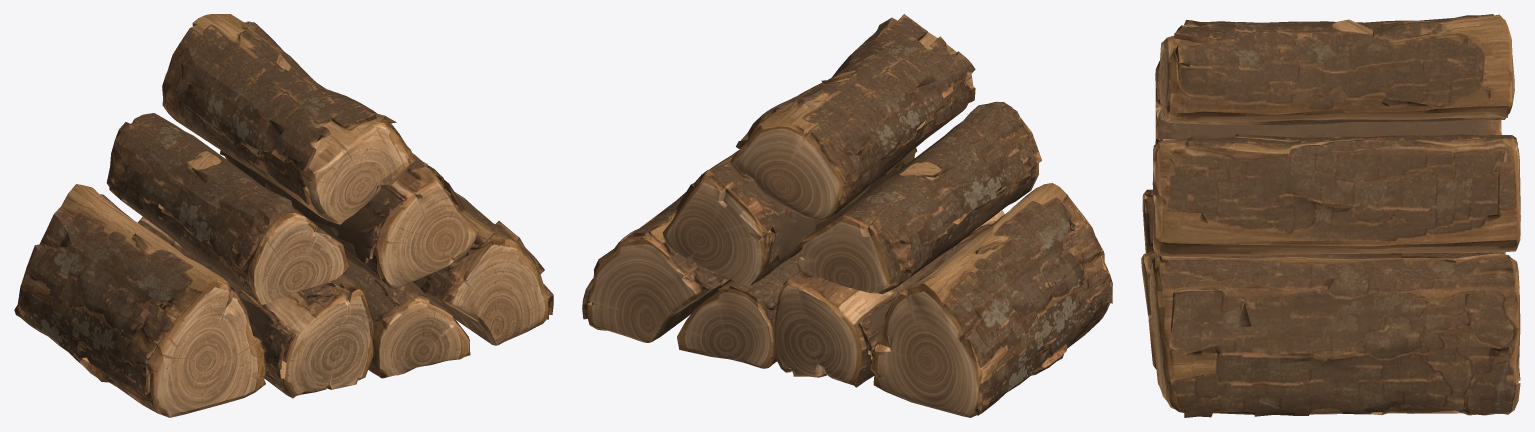
Rendered from log-pile.glb.
3 renders of one model, left to right at view 1: azimuth 30°, elevation 25°; view 2: azimuth 150°, elevation 25°; view 3: azimuth 270°, elevation 25°, orthographic. The views are drawn at different scales.
Visible parts, largest first — view 1: Mesh0; view 2: Mesh0; view 3: Mesh0.
Boxes of the visible parts, box(x1,y1,x2,y2) form: Mesh0: box(14, 14, 553, 417); Mesh0: box(582, 14, 1112, 417); Mesh0: box(1141, 14, 1520, 417).
Size of the model in its own units: 1.2 by 0.7428 by 0.8645.
1 material, 1 textured.
